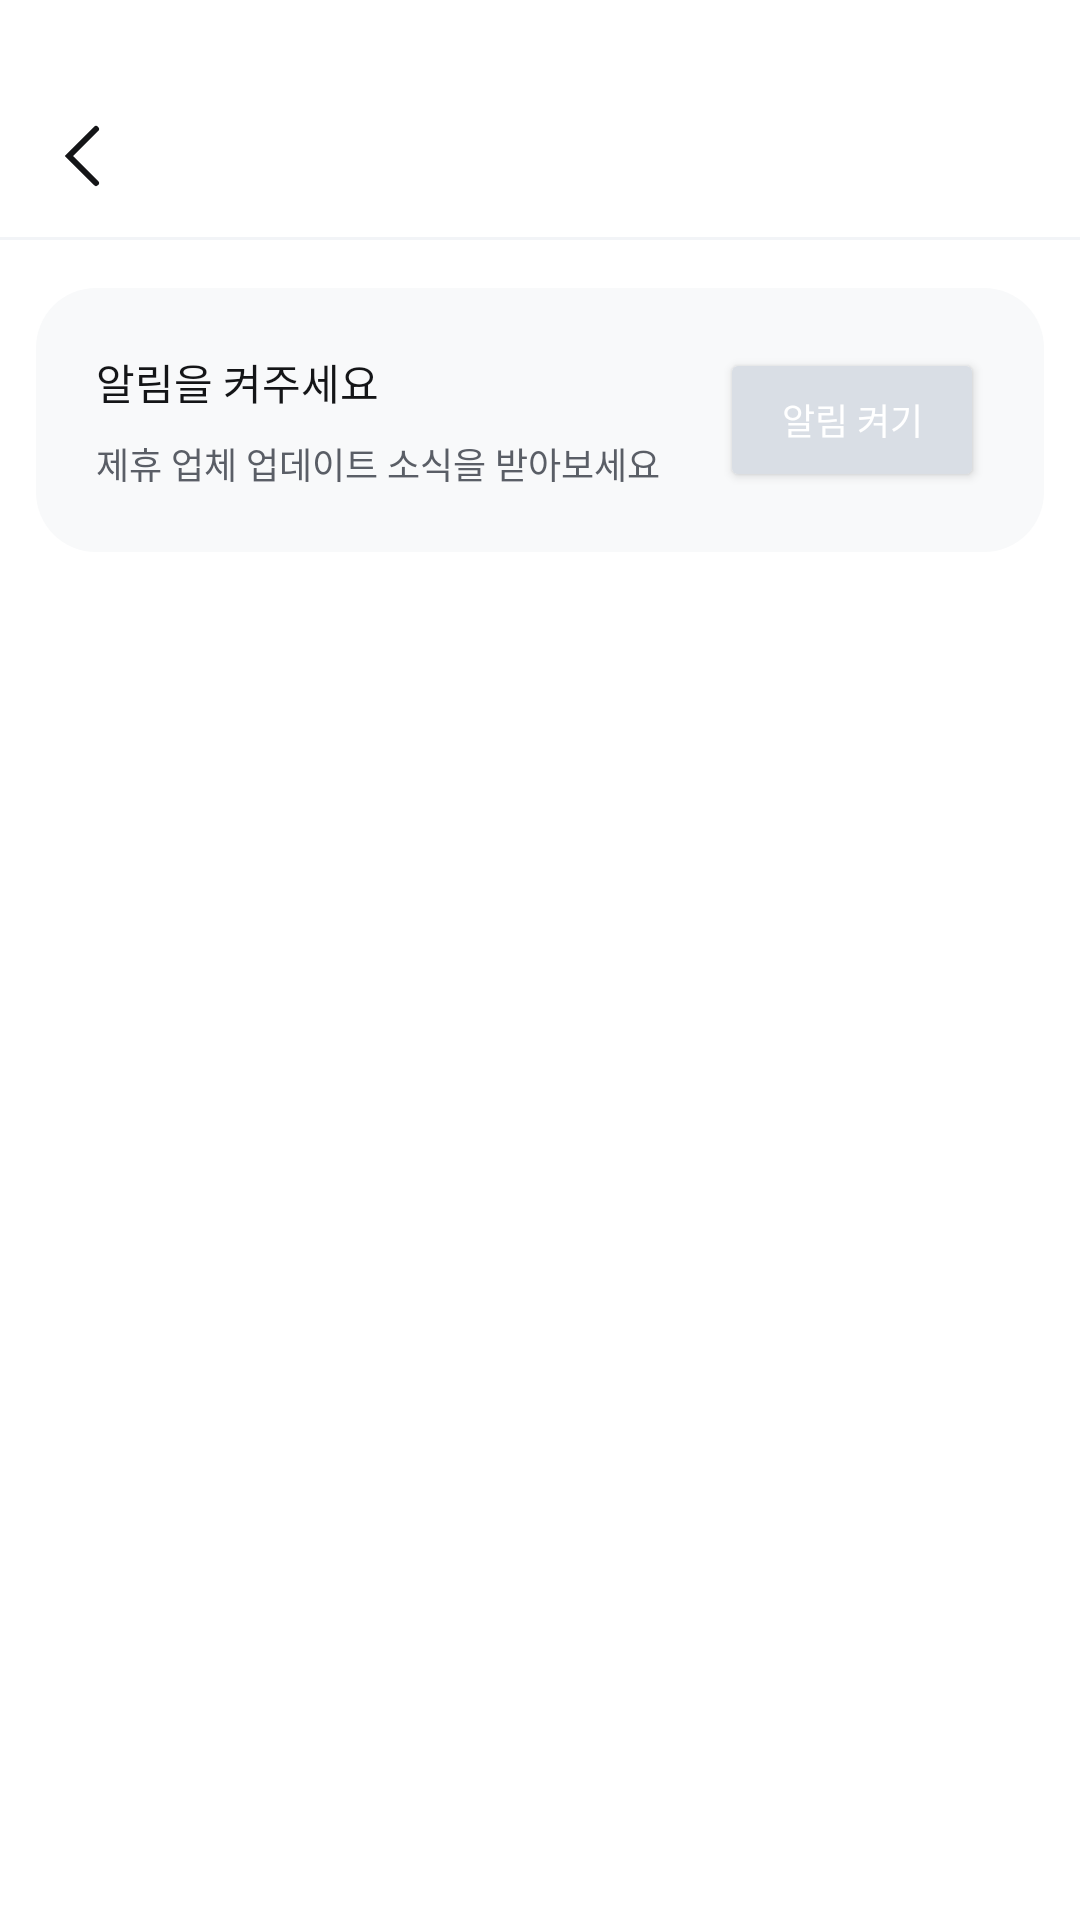

Point at icon controls on the screen. Image size 1080×1920, points as [x,y].
back: [82,155]
